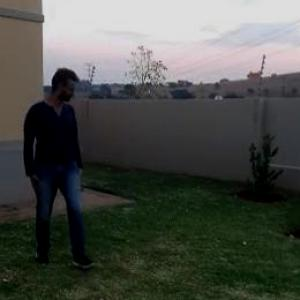follow: (25, 60, 98, 277)
